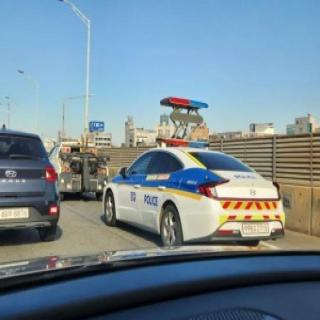Police_car: (100, 138, 287, 258)
